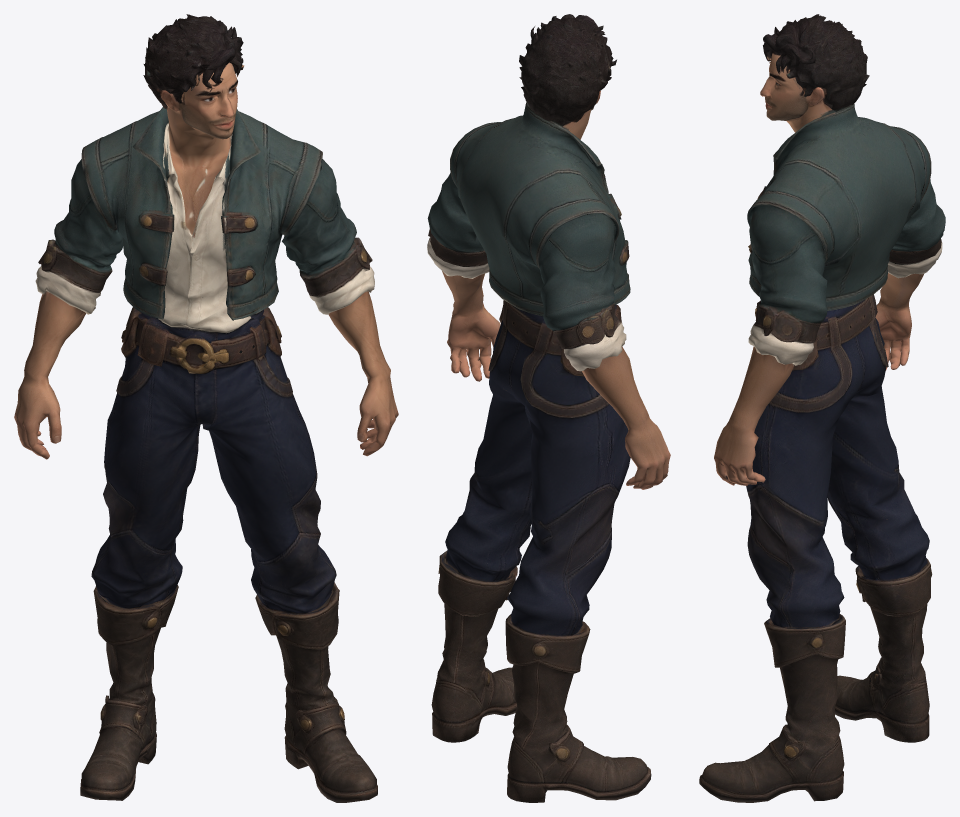
File: ivo.glb
3 renders of one model, left to right at view 1: azimuth 30°, elevation 25°; view 2: azimuth 150°, elevation 25°; view 3: azimuth 270°, elevation 25°, orthographic. The views are drawn at different scales.
Bounding box in the file's own units: 0.3896 × 0.9502 × 0.2935.
1 material, 1 textured.
